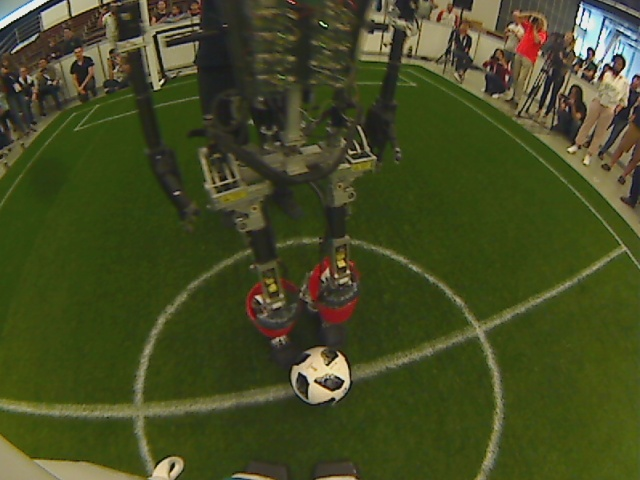ball: (286, 344, 355, 409)
